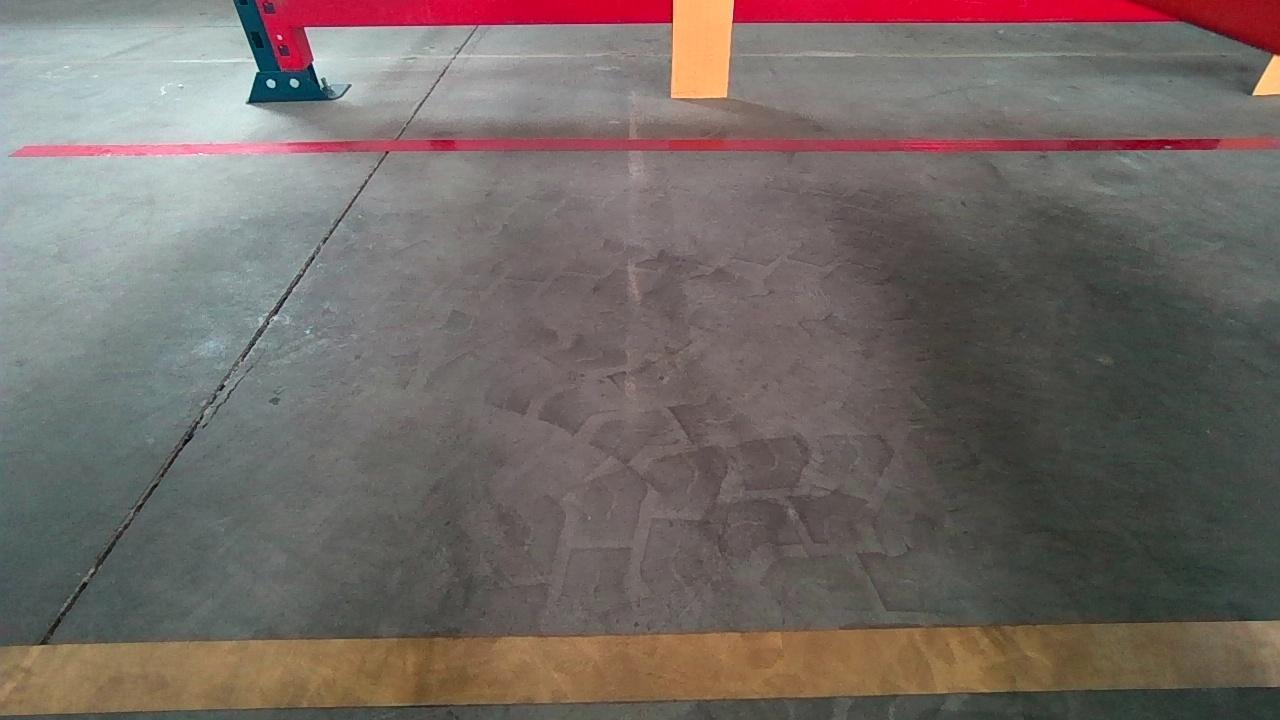h_rack: (285, 0, 1183, 25)
orange_strip: (671, 0, 733, 96)
red_line: (0, 134, 1280, 158)
